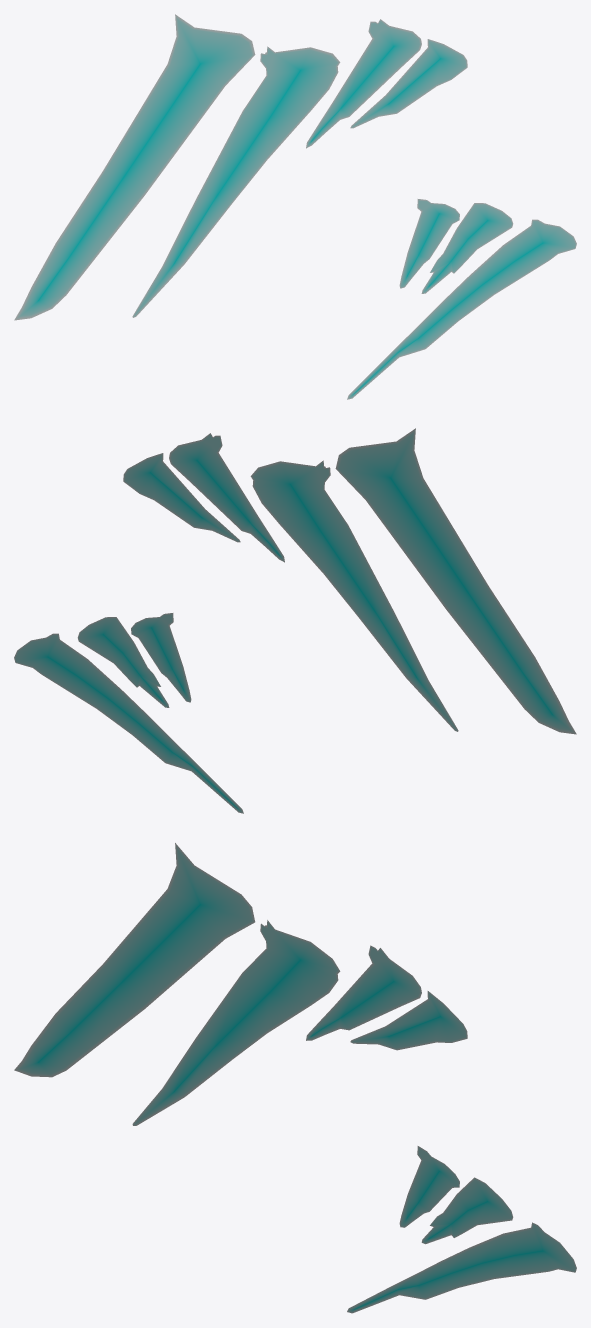
The model's file is SM_EFF_Text_AirPalm_01.glb.
The picture shows the model from 3 angles, top to bottom: view 1: azimuth 30°, elevation 25°; view 2: azimuth 150°, elevation 25°; view 3: azimuth 330°, elevation 25°; orthographic projection.
Parts seen in each view (by area): view 1: SM_EFF_Text_AirPalm_01; view 2: SM_EFF_Text_AirPalm_01; view 3: SM_EFF_Text_AirPalm_01.
Boxes of the visible parts, bbox=[...] form: SM_EFF_Text_AirPalm_01: bbox=[14, 14, 576, 399]; SM_EFF_Text_AirPalm_01: bbox=[14, 428, 576, 813]; SM_EFF_Text_AirPalm_01: bbox=[14, 843, 576, 1313].
Size of the model in its own units: 1.63 by 1.18 by 7.26e-17.
